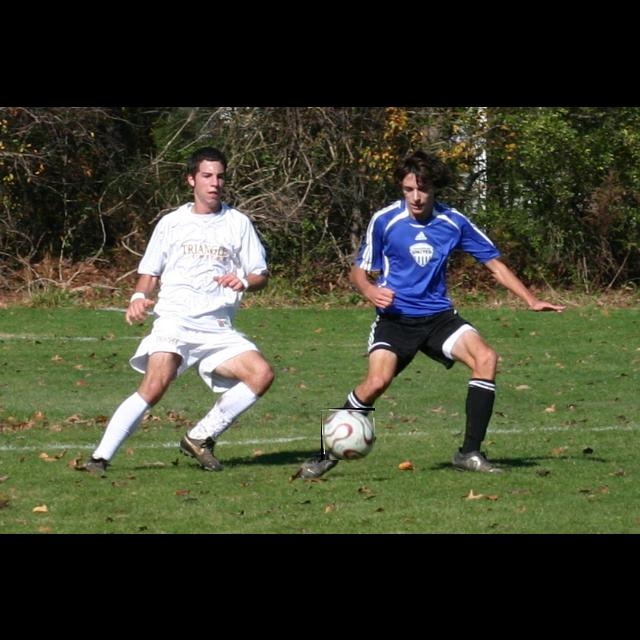Football: (321, 408, 375, 460)
